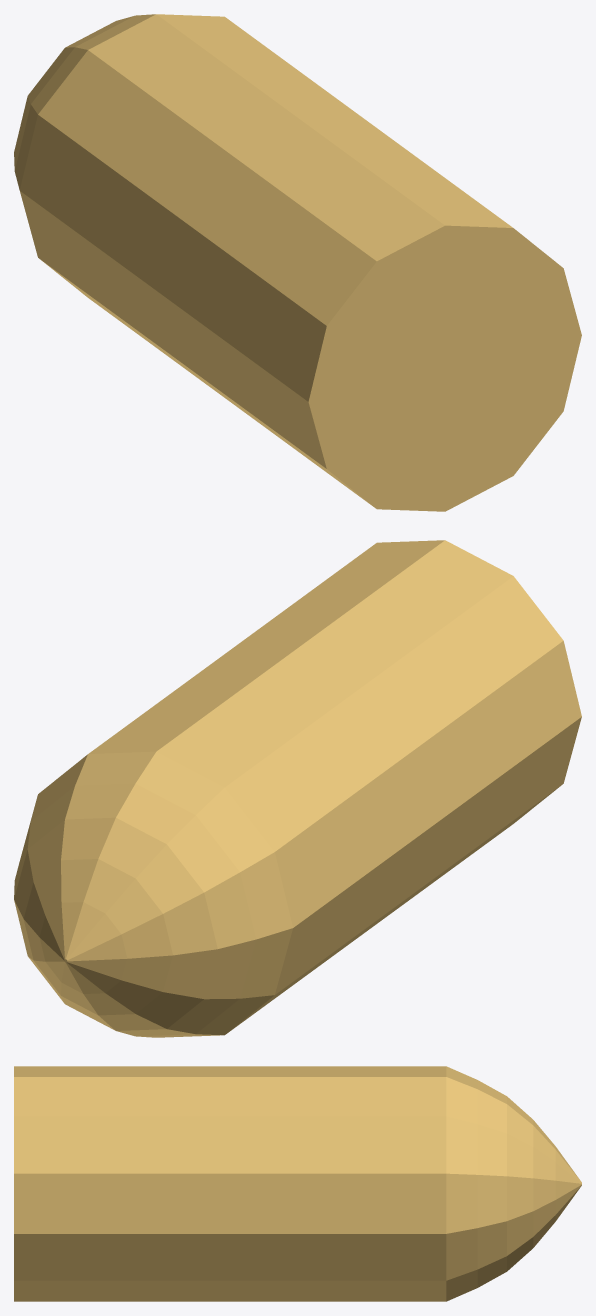
The model's file is standard_shell_v1.fbx.
3 views of the same model, one above another, from view 1: azimuth 30°, elevation 25°; view 2: azimuth 150°, elevation 25°; view 3: azimuth 270°, elevation 25° (orthographic). The views are drawn at different scales.
Parts seen in each view (by area): view 1: Cylinder; view 2: Cylinder; view 3: Cylinder.
Boxes of the visible parts, x1,y1,x2,y2 form: Cylinder: (14, 14, 581, 511); Cylinder: (14, 540, 581, 1037); Cylinder: (14, 1066, 581, 1301).
Size of the model in its own units: 109 by 109 by 263.
